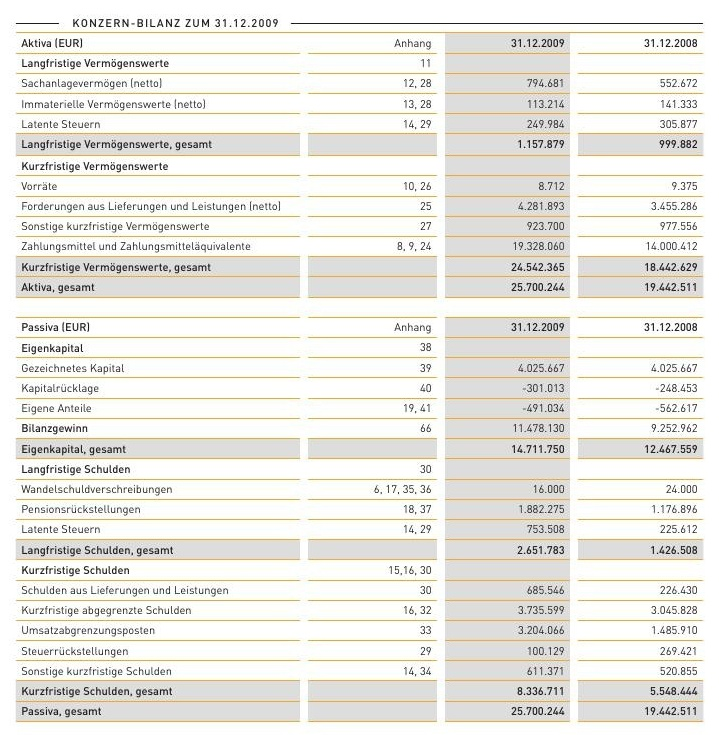table: (0, 0, 719, 735)
